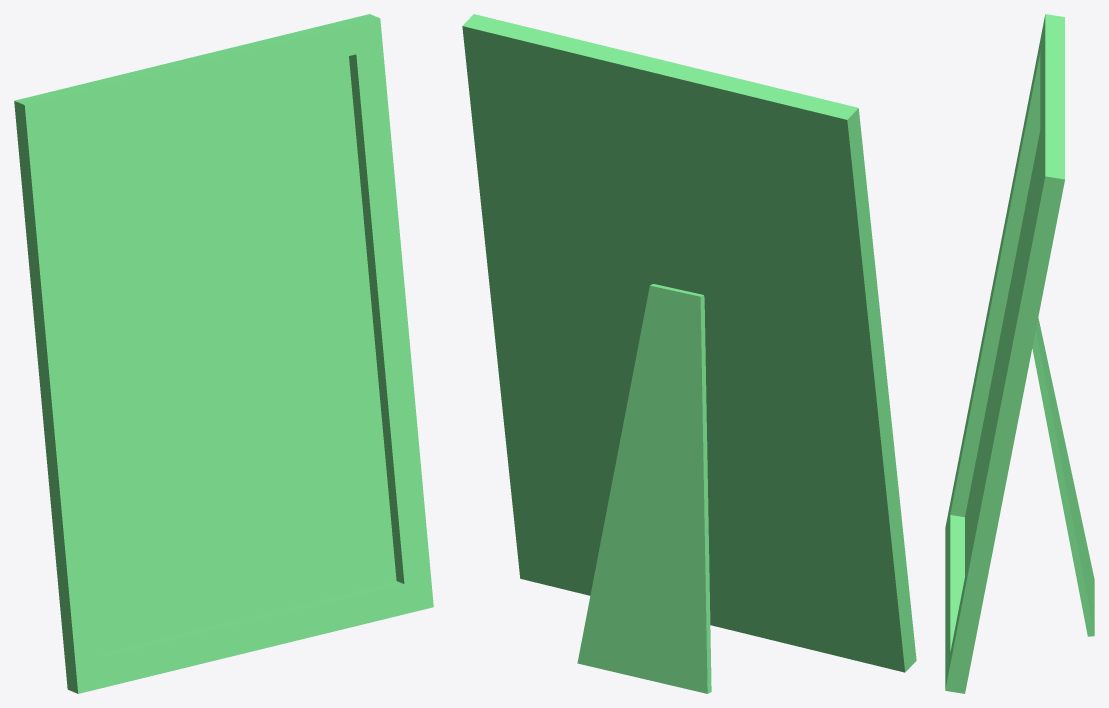
The model's file is PictureFrame_02.fbx.
3 renders of one model, left to right at view 1: azimuth 30°, elevation 25°; view 2: azimuth 150°, elevation 25°; view 3: azimuth 270°, elevation 25°, orthographic. The views are drawn at different scales.
Parts seen in each view (by area): view 1: PictureFrame_02; view 2: PictureFrame_02; view 3: PictureFrame_02.
Boxes of the visible parts, left/top/right/bottom form: PictureFrame_02: left=14, top=14, right=433, bottom=693; PictureFrame_02: left=462, top=14, right=916, bottom=693; PictureFrame_02: left=945, top=14, right=1094, bottom=693.
Bounding box in the file's own units: 20 × 29.73 × 7.78.
